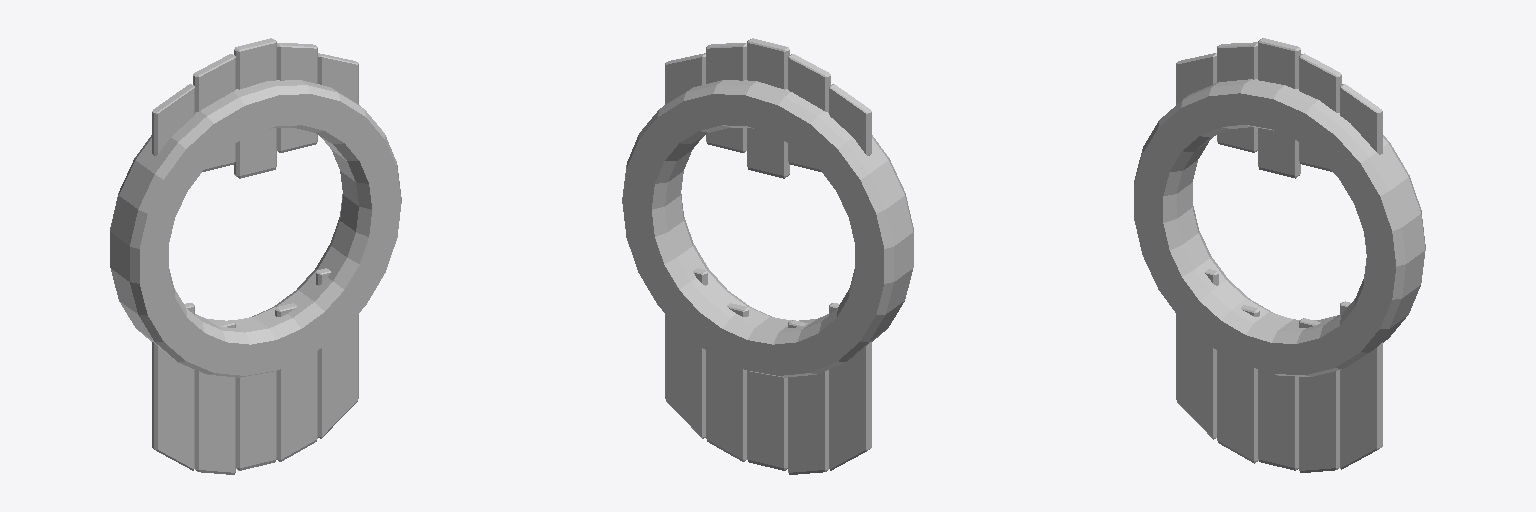
The model's file is aztec_round_door.obj.
3 views of the same model, side by side, from view 1: azimuth 30°, elevation 25°; view 2: azimuth 150°, elevation 25°; view 3: azimuth 330°, elevation 25° (orthographic).
Parts seen in each view (by area): view 1: Torus.001, Cube_Cube.001, Cube.009_Cube.010; view 2: Torus.001, Cube_Cube.001, Cube.009_Cube.010; view 3: Torus.001, Cube_Cube.001, Cube.009_Cube.010.
Part boxes in pixels (x1,y1,x2,y2): Torus.001: (110, 80, 401, 377); Cube_Cube.001: (152, 268, 358, 474); Cube.009_Cube.010: (152, 38, 358, 178); Torus.001: (622, 80, 913, 377); Cube_Cube.001: (665, 268, 871, 474); Cube.009_Cube.010: (665, 38, 871, 178); Torus.001: (1134, 79, 1425, 376); Cube_Cube.001: (1176, 269, 1382, 472); Cube.009_Cube.010: (1176, 38, 1382, 178).
Bounding box in the file's own units: 8.17 × 12.17 × 1.52.